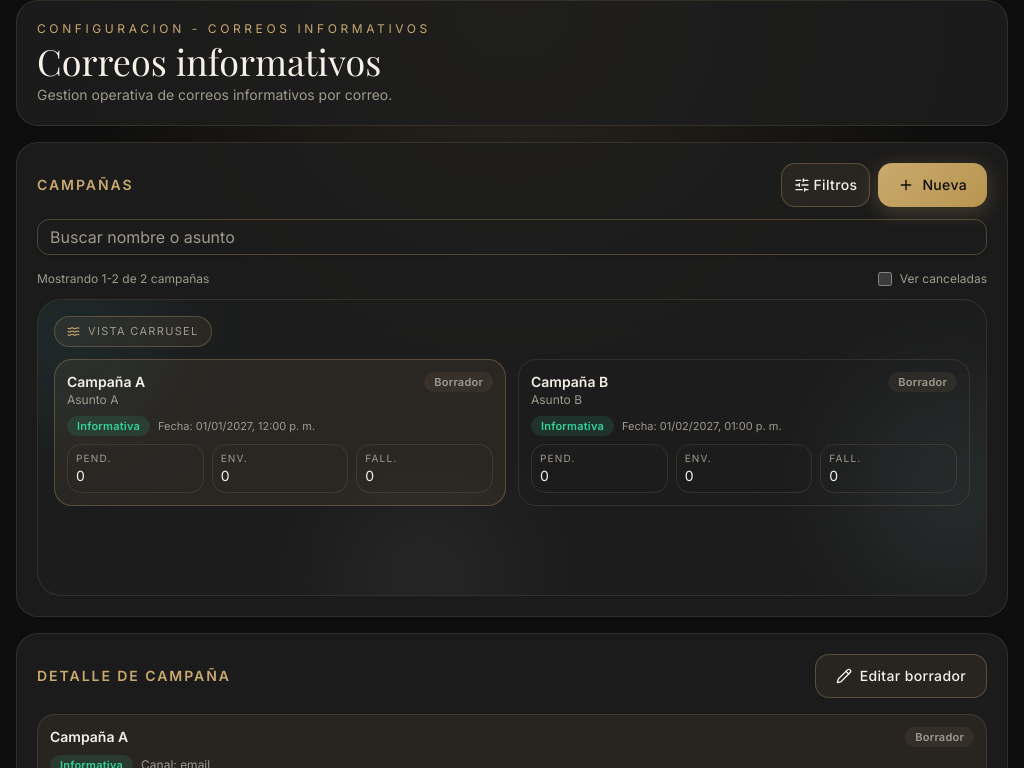
Test case: apertura antigua de editor no reemplaza Nueva campaña
The width and height of the screenshot is (1024, 768).
Expected: the text "Campaña A" below "Detalle de campaña" is shown, [50,728,128,745]
Click the button "Editar borrador" at coordinates (901, 676), box [815,654,987,698]
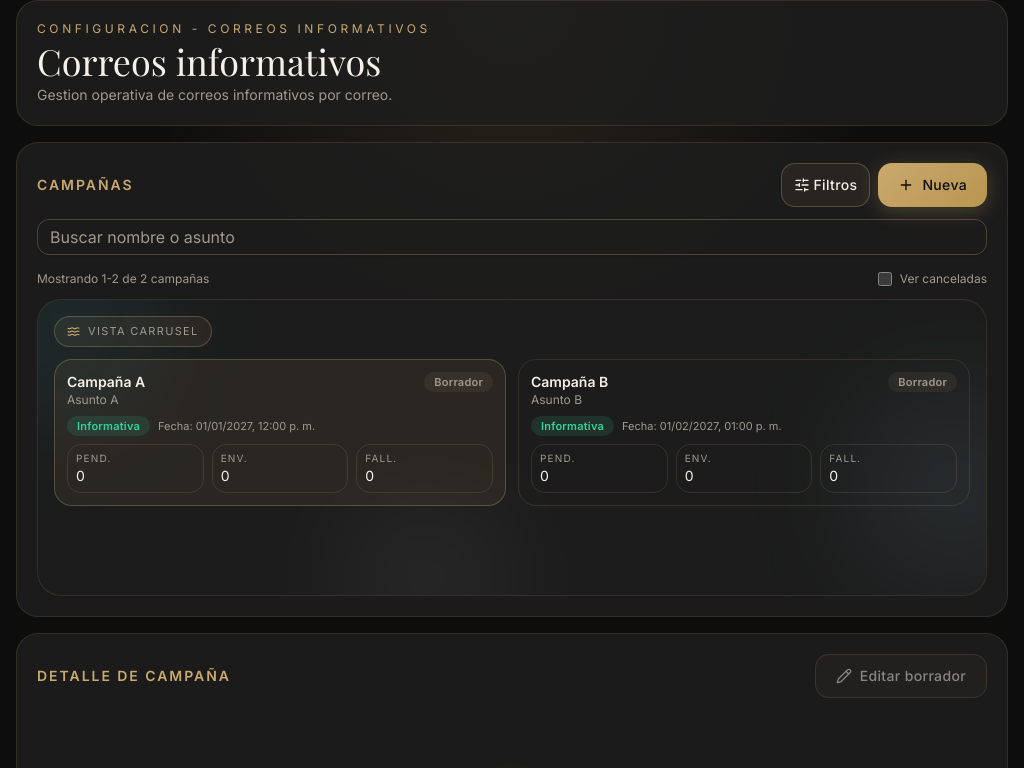
Click the button "Nueva" at coordinates (933, 185), box [878,163,987,207]
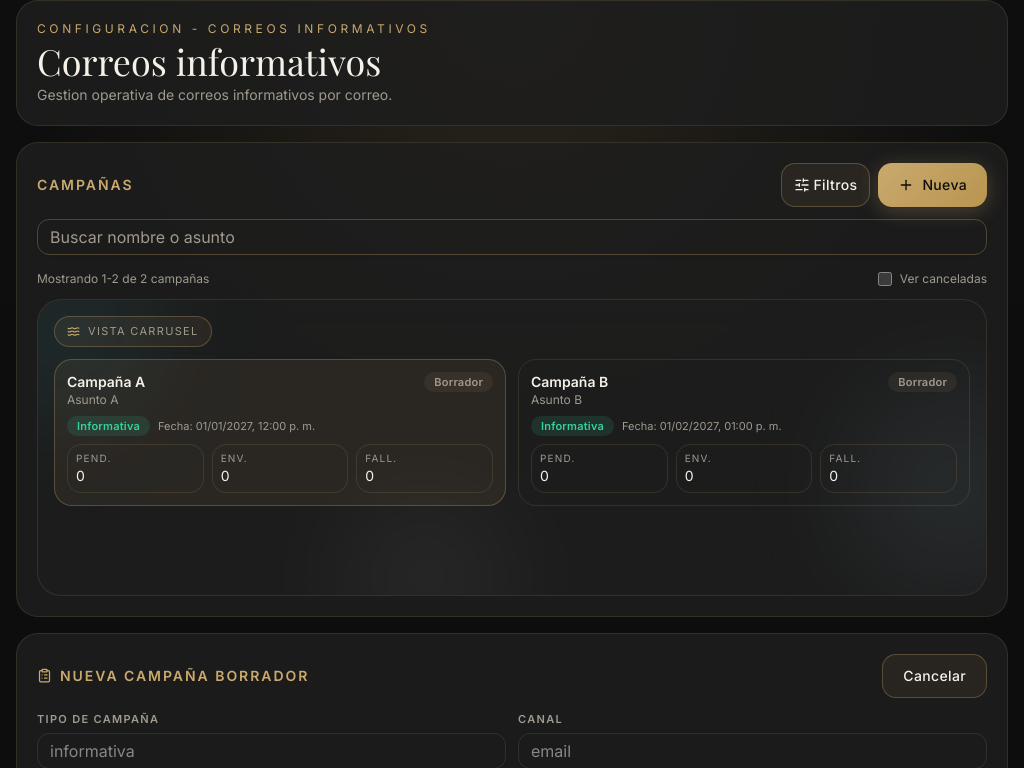
Now the heading "Nueva campaña borrador" is shown, box [37,666,309,686]
